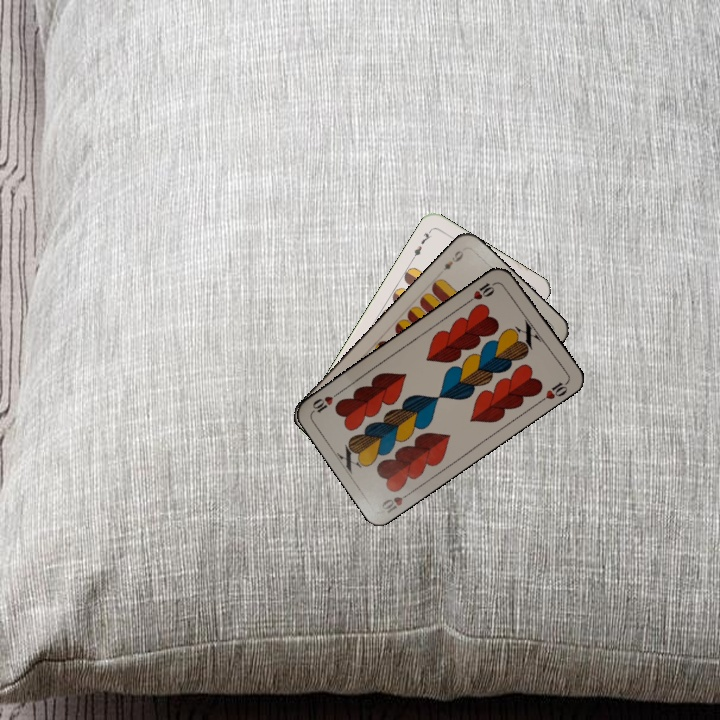E7: (408, 226, 434, 262)
E9: (439, 246, 466, 273)
H10: (377, 487, 415, 516), (464, 278, 500, 305)
